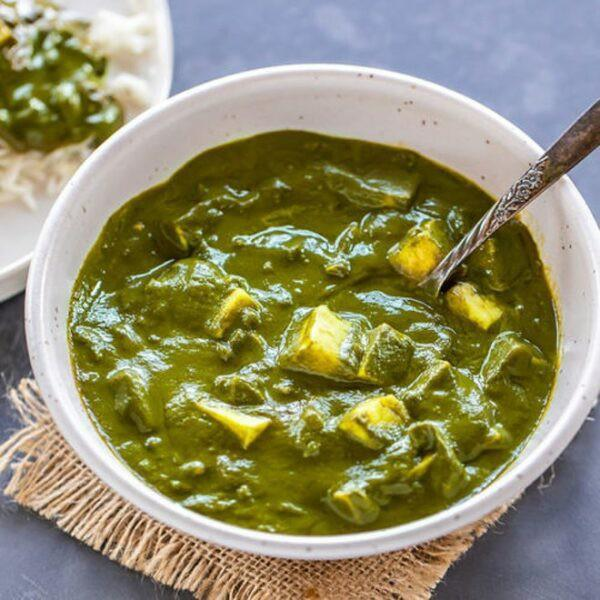PalakPaneer: (65, 126, 557, 533)
